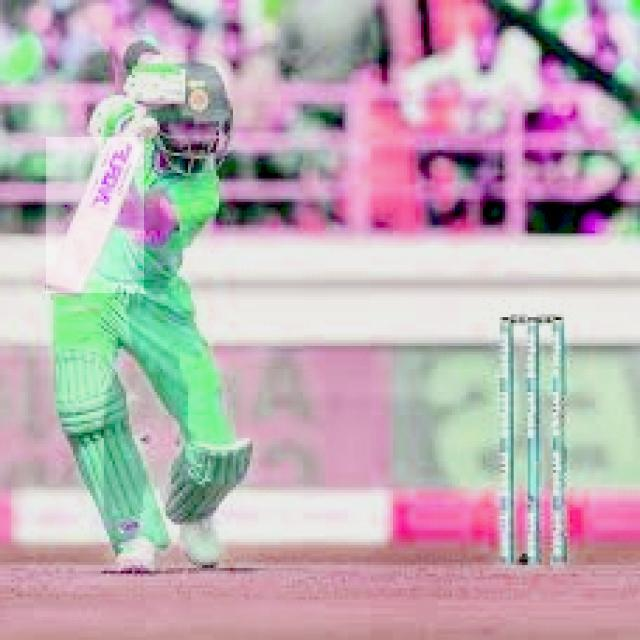bat: (45, 136, 145, 294)
toe: (44, 281, 87, 294)
